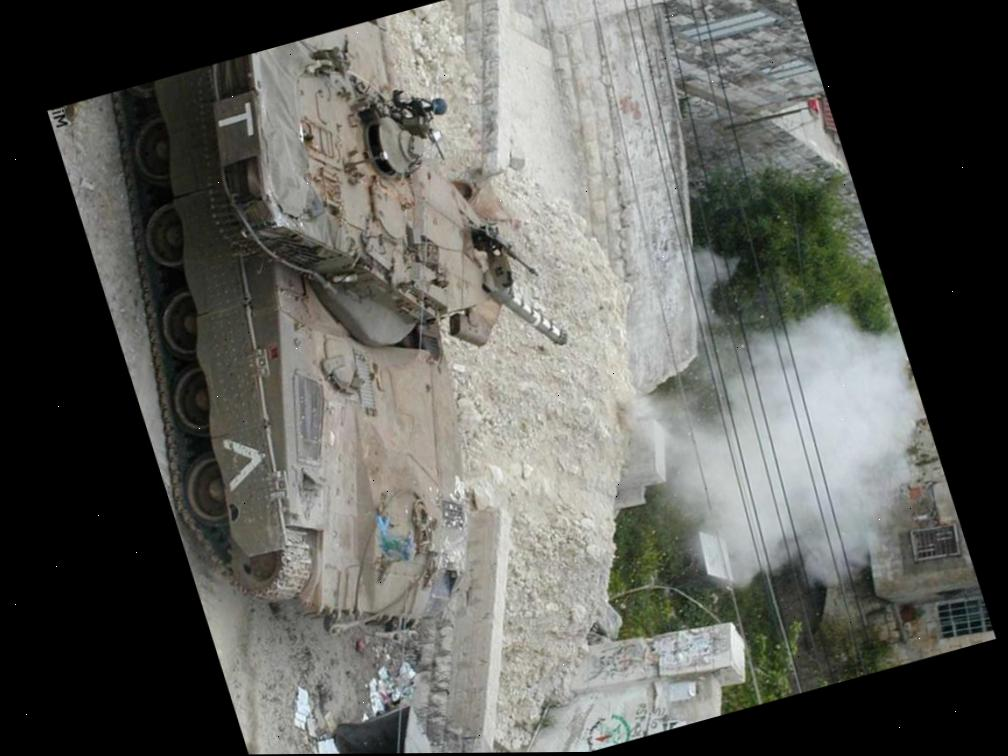tank: (48, 0, 648, 689)
